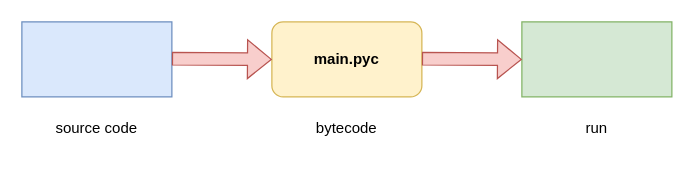
The diagram is 694 pixels wide and 169 high, and some of its shapes have lost their labels. The shapes that lost their labels are listed below. From the top down, each one's centre as x and y in pixels, then its label:
At point 96,59: "main.py".
At point 596,59: "PVM".
